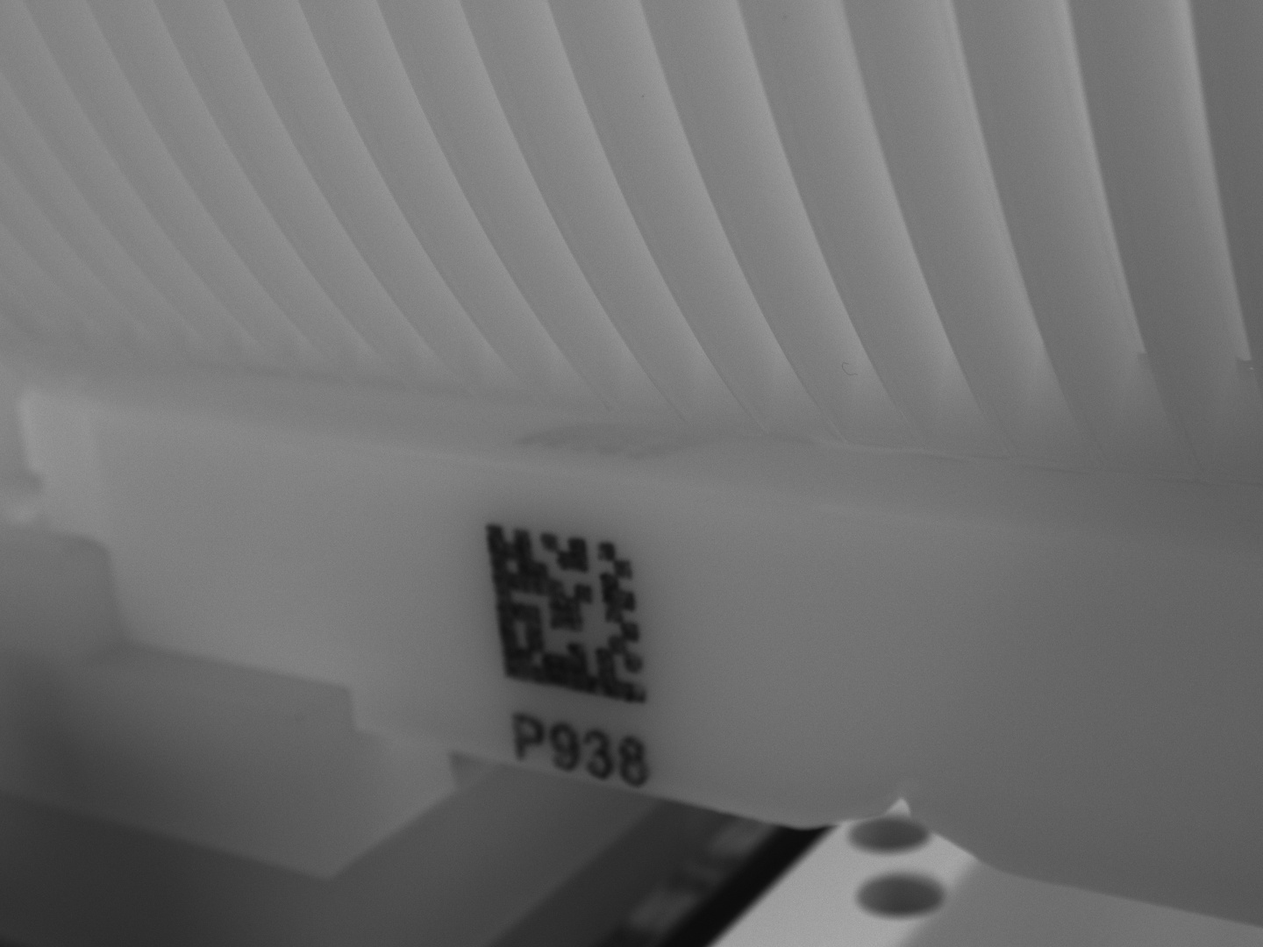datamatrix: (480, 513, 650, 706)
text: (505, 707, 651, 789)
